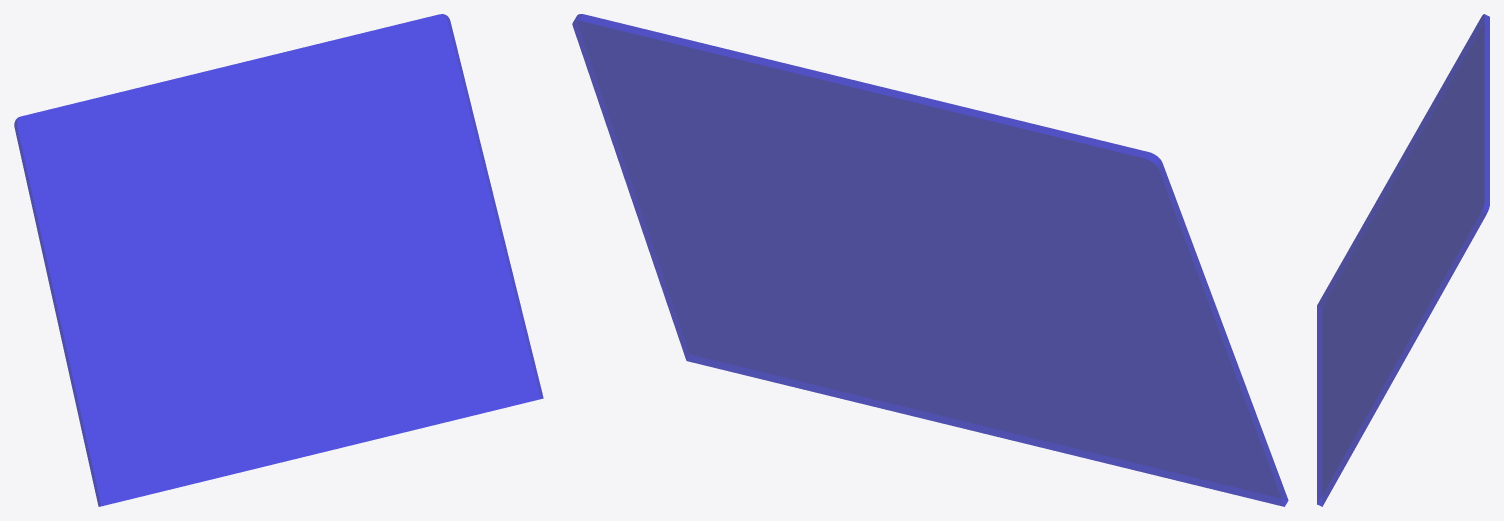
The model's file is screen_presenter.fbx.
3 renders of one model, left to right at view 1: azimuth 30°, elevation 25°; view 2: azimuth 150°, elevation 25°; view 3: azimuth 270°, elevation 25°, orthographic. The views are drawn at different scales.
Parts seen in each view (by area): view 1: pCube168; view 2: pCube168; view 3: pCube168.
Boxes of the visible parts, x1,y1,x2,y2 form: pCube168: (14, 14, 543, 506); pCube168: (572, 14, 1288, 506); pCube168: (1317, 14, 1489, 506).
Size of the model in its own units: 2.46 by 1.72 by 0.9019.
